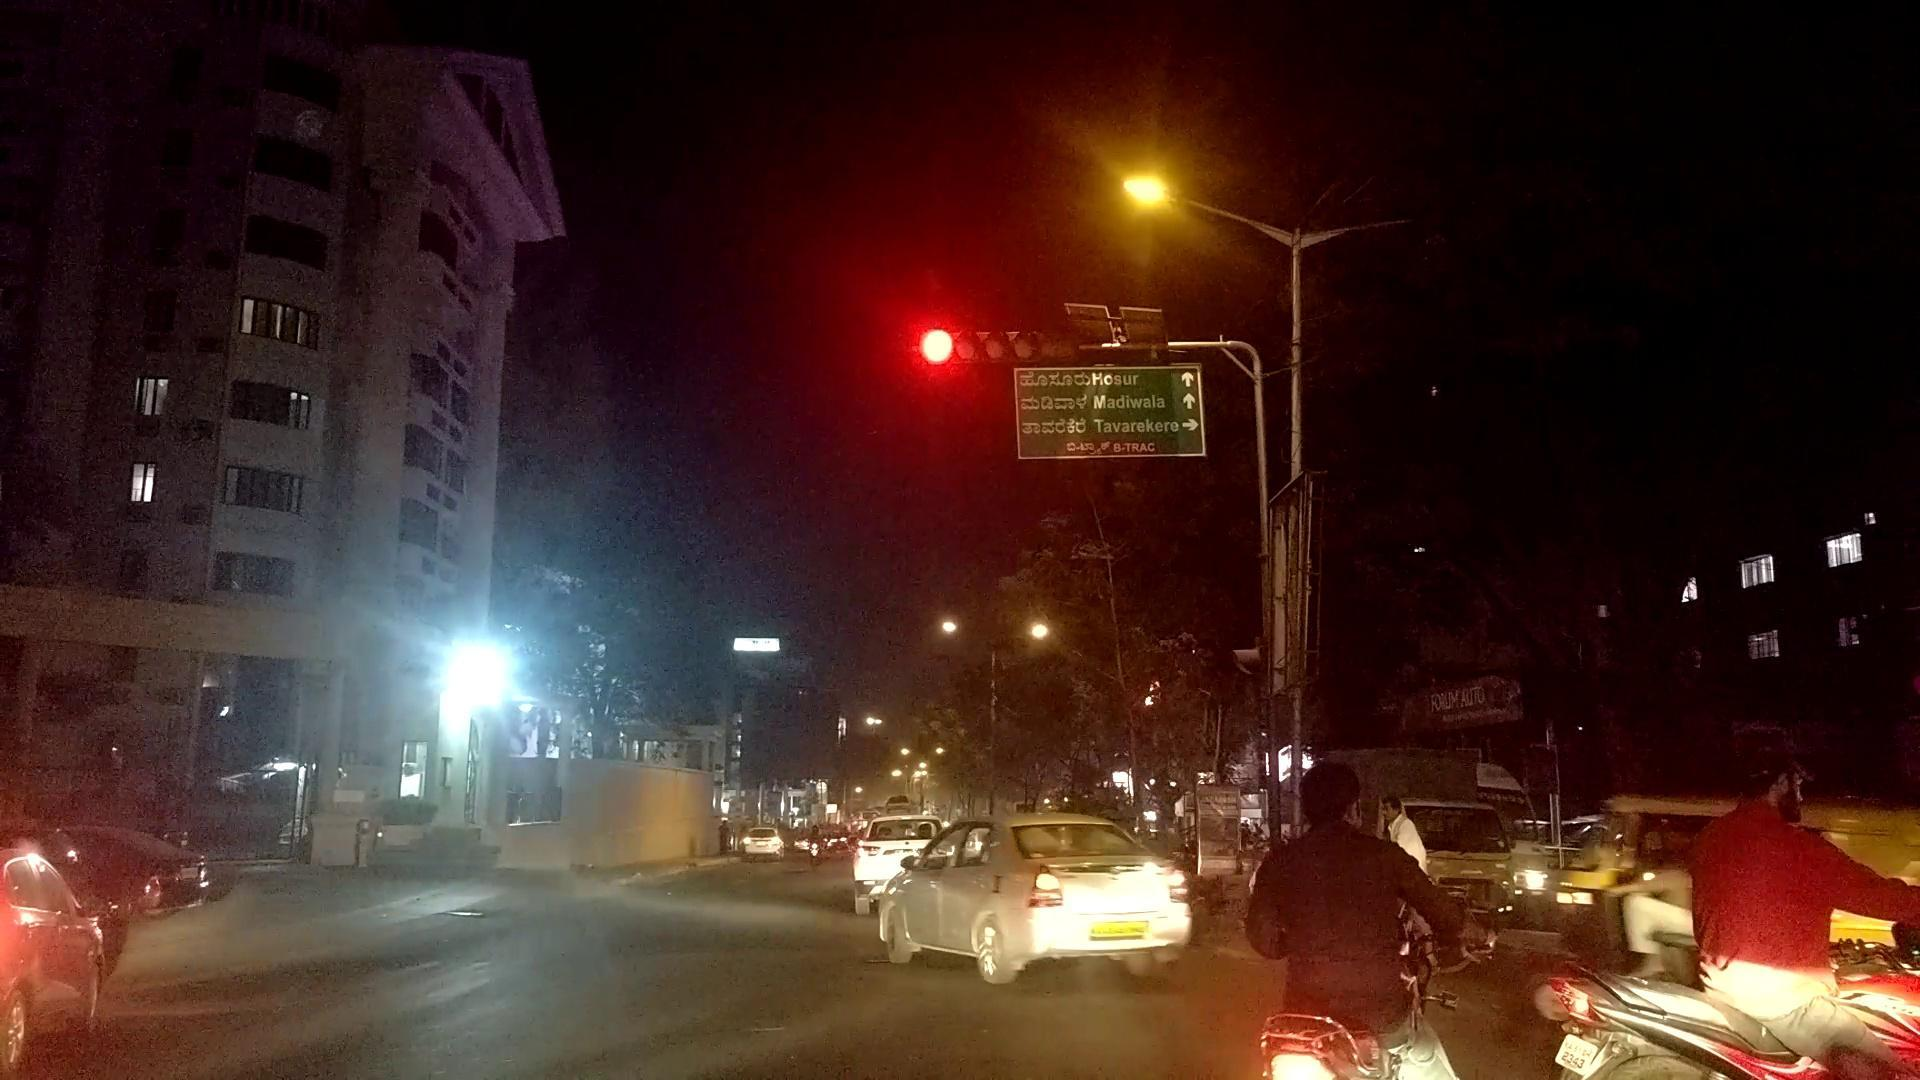on: (971, 0, 1470, 396)
